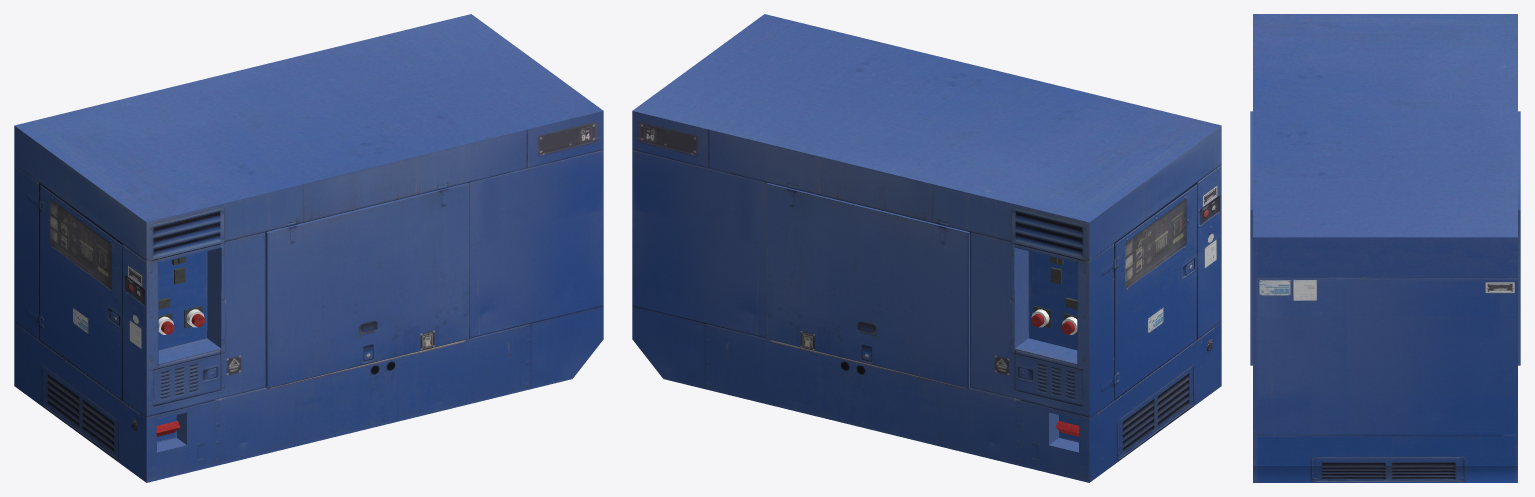
Rendered from Generator.glb.
3 views of the same model, side by side, from view 1: azimuth 30°, elevation 25°; view 2: azimuth 150°, elevation 25°; view 3: azimuth 270°, elevation 25° (orthographic).
Visible parts, largest first — view 1: Generator & Engine_01; view 2: Generator & Engine_01; view 3: Generator & Engine_01.
Boxes of the visible parts, x1,y1,x2,y2 form: Generator & Engine_01: (14,14,603,482); Generator & Engine_01: (632,14,1221,482); Generator & Engine_01: (1250,14,1520,482).
Size of the model in its own units: 3.66 by 1.99 by 1.87.
Materials: 1 (1 with a texture image).
